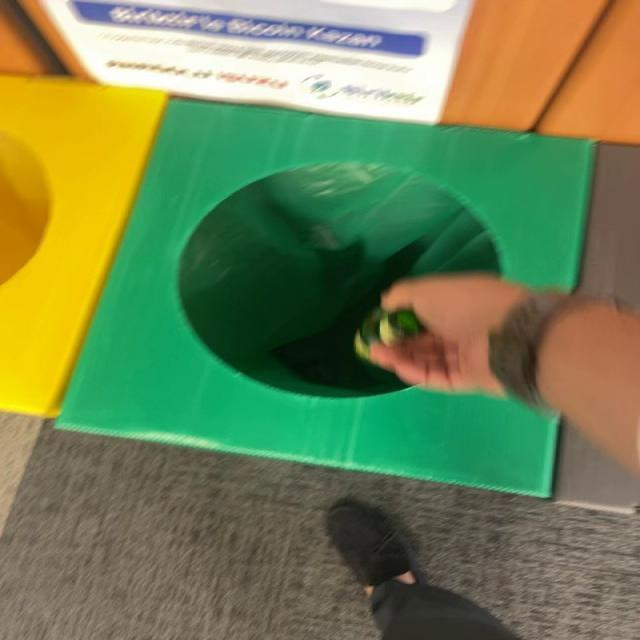Glass: (356, 307, 427, 358)
